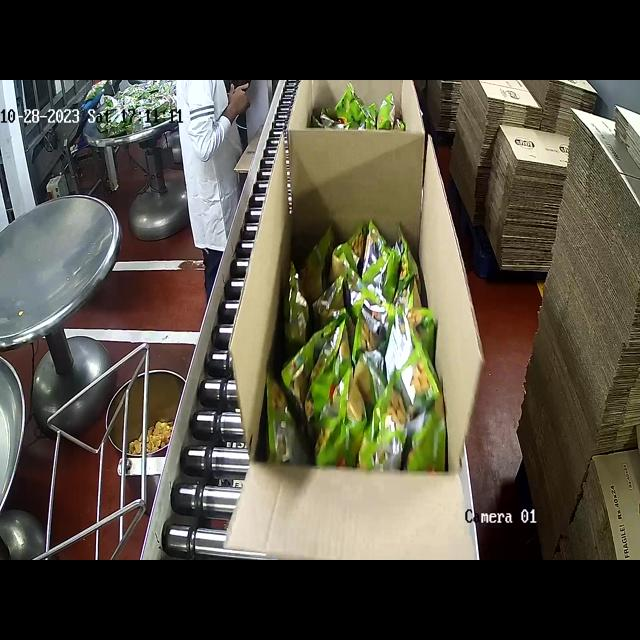yogurt: (265, 218, 448, 471), (309, 88, 405, 135)
